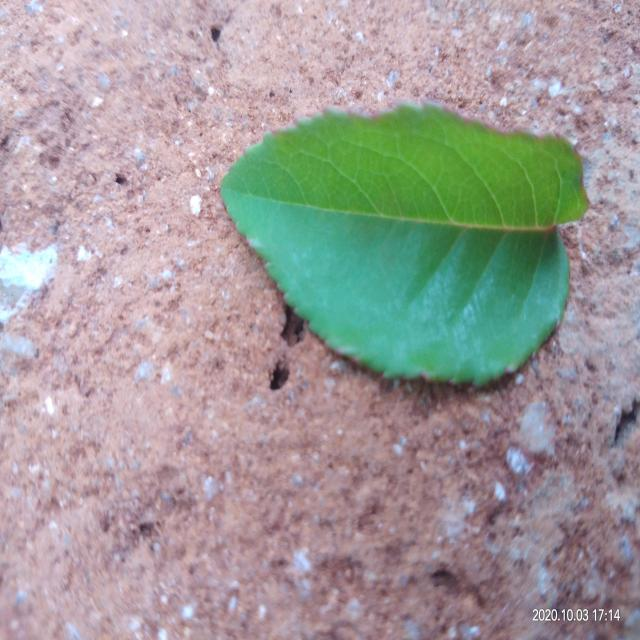rose: (221, 103, 589, 385)
